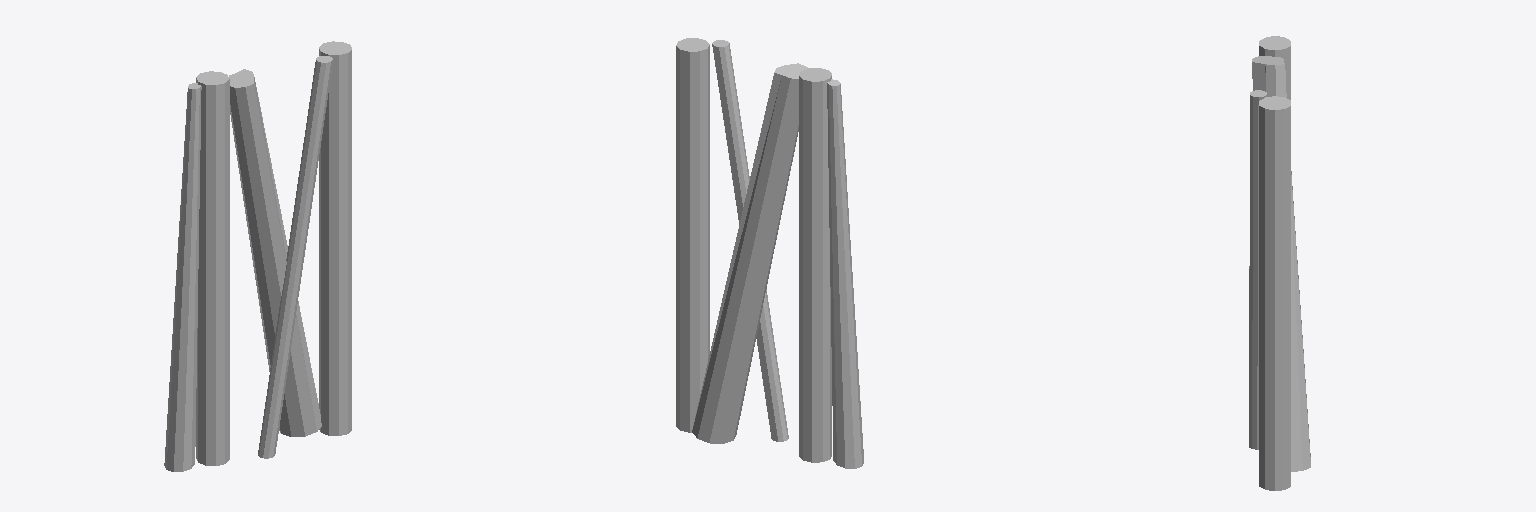
The model's file is Flammable.obj.
3 renders of one model, left to right at view 1: azimuth 30°, elevation 25°; view 2: azimuth 150°, elevation 25°; view 3: azimuth 270°, elevation 25°, orthographic.
Size of the model in its own units: 9.76 by 19.34 by 2.87.